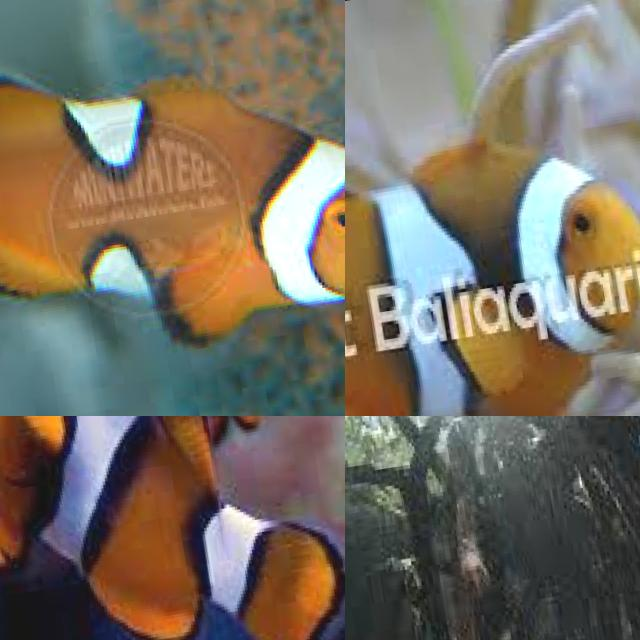Amphiprion-percula: (0, 0, 345, 416), (345, 98, 640, 416), (0, 416, 345, 640), (127, 416, 345, 552)
